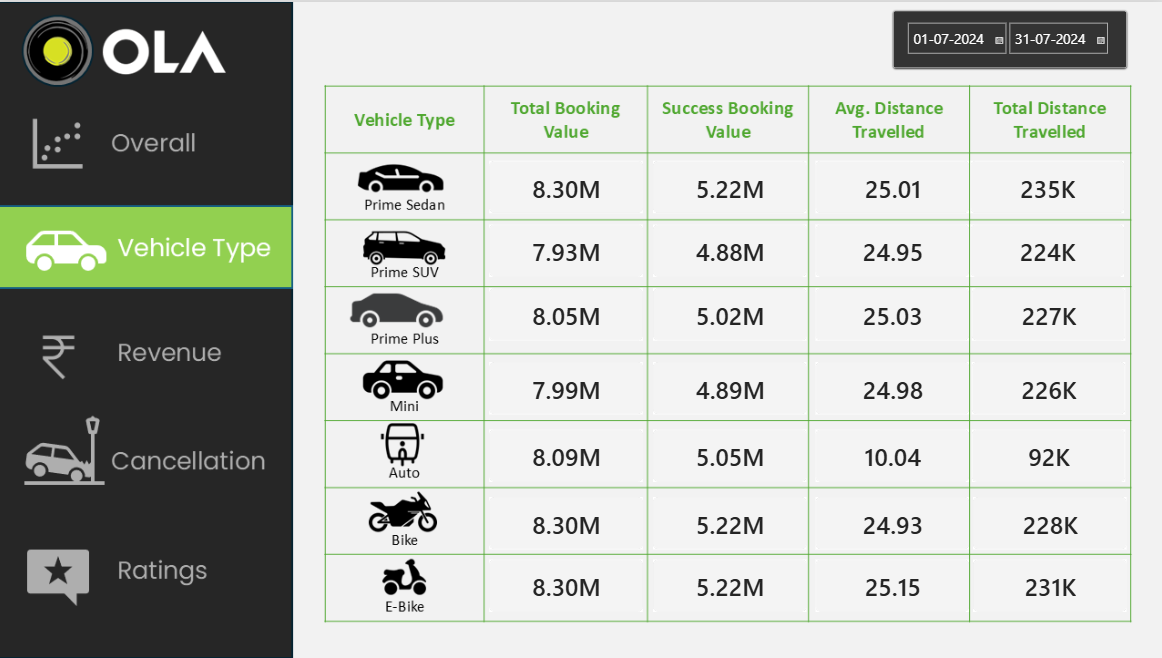

Layout of this report page (visuals, bound fields, positions):
{"tool":"powerbi","page":{"name":"Vehicle Type","canvas":[1920,1080],"ordinal":1},"visuals":[{"type":"actionButton","box":[0,335,484.1,135.7],"z":0},{"type":"actionButton","box":[1.7,510.9,484.1,135.7],"z":1000},{"type":"actionButton","box":[1.7,678.4,484.1,135.7],"z":2000},{"type":"actionButton","box":[0,869.3,484.1,135.7],"z":3000},{"type":"actionButton","box":[1.7,169.2,484.1,135.7],"z":4000},{"type":"cardVisual","fields":{"Data":["Sum(July.Booking_Value)"]},"box":[808.9,366.4,253.2,86.4],"z":4002},{"type":"cardVisual","fields":{"Data":["Sum(July.Booking_Value)"]},"box":[808.9,471.4,253.2,86.4],"z":4003},{"type":"cardVisual","fields":{"Data":["Sum(July.Booking_Value)"]},"box":[808.9,592.8,253.2,86.4],"z":4004},{"type":"cardVisual","fields":{"Data":["Sum(July.Booking_Value)"]},"box":[808.9,703.9,253.2,86.4],"z":4005},{"type":"cardVisual","fields":{"Data":["Sum(July.Booking_Value)"]},"box":[808.9,815.1,253.2,86.4],"z":4006},{"type":"cardVisual","fields":{"Data":["Sum(July.Booking_Value)"]},"box":[808.9,918,253.2,86.4],"z":4007},{"type":"cardVisual","fields":{"Data":["Sum(July.Booking_Value)"]},"box":[808.9,261.4,253.2,86.4],"z":4008},{"type":"cardVisual","fields":{"Data":["Sum(July.Booking_Value)"]},"box":[1078.6,261.4,253.2,86.4],"z":4009},{"type":"cardVisual","fields":{"Data":["Sum(July.Booking_Value)"]},"box":[1078.6,366.4,253.2,86.4],"z":4010},{"type":"cardVisual","fields":{"Data":["Sum(July.Booking_Value)"]},"box":[1078.6,471.4,253.2,86.4],"z":4011},{"type":"cardVisual","fields":{"Data":["Sum(July.Booking_Value)"]},"box":[1078.6,592.8,253.2,86.4],"z":4012},{"type":"cardVisual","fields":{"Data":["Sum(July.Booking_Value)"]},"box":[1078.6,703.9,253.2,86.4],"z":4013},{"type":"cardVisual","fields":{"Data":["Sum(July.Booking_Value)"]},"box":[1078.6,815.1,253.2,86.4],"z":4014},{"type":"cardVisual","fields":{"Data":["Sum(July.Booking_Value)"]},"box":[1078.6,918,253.2,86.4],"z":4015},{"type":"cardVisual","fields":{"Data":["Avg(July.Ride_Distance)"]},"box":[1346.1,261.4,253.2,86.4],"z":4016},{"type":"cardVisual","fields":{"Data":["Avg(July.Ride_Distance)"]},"box":[1346.1,366.4,253.2,86.4],"z":4017},{"type":"cardVisual","fields":{"Data":["Avg(July.Ride_Distance)"]},"box":[1346.1,471.4,253.2,86.4],"z":4018},{"type":"cardVisual","fields":{"Data":["Avg(July.Ride_Distance)"]},"box":[1346.1,592.8,253.2,86.4],"z":4019},{"type":"cardVisual","fields":{"Data":["Avg(July.Ride_Distance)"]},"box":[1346.1,703.9,253.2,86.4],"z":4020},{"type":"cardVisual","fields":{"Data":["Avg(July.Ride_Distance)"]},"box":[1346.1,815.1,253.2,86.4],"z":4021},{"type":"cardVisual","fields":{"Data":["Avg(July.Ride_Distance)"]},"box":[1346.1,918,253.2,86.4],"z":4022},{"type":"cardVisual","fields":{"Data":["Sum(July.Ride_Distance)"]},"box":[1601.4,261.4,253.2,86.4],"z":4023},{"type":"cardVisual","fields":{"Data":["Sum(July.Ride_Distance)"]},"box":[1601.4,366.4,253.2,86.4],"z":4024},{"type":"cardVisual","fields":{"Data":["Sum(July.Ride_Distance)"]},"box":[1603.4,471.4,253.2,86.4],"z":4025},{"type":"cardVisual","fields":{"Data":["Sum(July.Ride_Distance)"]},"box":[1603.4,592.8,253.2,86.4],"z":4026},{"type":"cardVisual","fields":{"Data":["Sum(July.Ride_Distance)"]},"box":[1603.4,703.9,253.2,86.4],"z":4027},{"type":"cardVisual","fields":{"Data":["Sum(July.Ride_Distance)"]},"box":[1605.5,815.1,253.2,86.4],"z":4028},{"type":"cardVisual","fields":{"Data":["Sum(July.Ride_Distance)"]},"box":[1605.5,918,253.2,86.4],"z":4029},{"type":"slicer","title":"Date","fields":{"Values":["July.Date"]},"box":[1473.8,14.4,384.9,94.7],"z":4030}]}

Visuals, with their boxes on the page's 1920x1080 design canvas (x1, y1, x2, y2). These are canvas units, not pixel positions in the 1162x658 screenshot, which may show the page scaled, cropped or inside an application window:
actionButton: {"left": 0, "top": 335, "right": 484, "bottom": 471}
actionButton: {"left": 2, "top": 511, "right": 486, "bottom": 647}
actionButton: {"left": 2, "top": 678, "right": 486, "bottom": 814}
actionButton: {"left": 0, "top": 869, "right": 484, "bottom": 1005}
actionButton: {"left": 2, "top": 169, "right": 486, "bottom": 305}
cardVisual - Sum(July.Booking_Value): {"left": 809, "top": 366, "right": 1062, "bottom": 453}
cardVisual - Sum(July.Booking_Value): {"left": 809, "top": 471, "right": 1062, "bottom": 558}
cardVisual - Sum(July.Booking_Value): {"left": 809, "top": 593, "right": 1062, "bottom": 679}
cardVisual - Sum(July.Booking_Value): {"left": 809, "top": 704, "right": 1062, "bottom": 790}
cardVisual - Sum(July.Booking_Value): {"left": 809, "top": 815, "right": 1062, "bottom": 902}
cardVisual - Sum(July.Booking_Value): {"left": 809, "top": 918, "right": 1062, "bottom": 1004}
cardVisual - Sum(July.Booking_Value): {"left": 809, "top": 261, "right": 1062, "bottom": 348}
cardVisual - Sum(July.Booking_Value): {"left": 1079, "top": 261, "right": 1332, "bottom": 348}
cardVisual - Sum(July.Booking_Value): {"left": 1079, "top": 366, "right": 1332, "bottom": 453}
cardVisual - Sum(July.Booking_Value): {"left": 1079, "top": 471, "right": 1332, "bottom": 558}
cardVisual - Sum(July.Booking_Value): {"left": 1079, "top": 593, "right": 1332, "bottom": 679}
cardVisual - Sum(July.Booking_Value): {"left": 1079, "top": 704, "right": 1332, "bottom": 790}
cardVisual - Sum(July.Booking_Value): {"left": 1079, "top": 815, "right": 1332, "bottom": 902}
cardVisual - Sum(July.Booking_Value): {"left": 1079, "top": 918, "right": 1332, "bottom": 1004}
cardVisual - Avg(July.Ride_Distance): {"left": 1346, "top": 261, "right": 1599, "bottom": 348}
cardVisual - Avg(July.Ride_Distance): {"left": 1346, "top": 366, "right": 1599, "bottom": 453}
cardVisual - Avg(July.Ride_Distance): {"left": 1346, "top": 471, "right": 1599, "bottom": 558}
cardVisual - Avg(July.Ride_Distance): {"left": 1346, "top": 593, "right": 1599, "bottom": 679}
cardVisual - Avg(July.Ride_Distance): {"left": 1346, "top": 704, "right": 1599, "bottom": 790}
cardVisual - Avg(July.Ride_Distance): {"left": 1346, "top": 815, "right": 1599, "bottom": 902}
cardVisual - Avg(July.Ride_Distance): {"left": 1346, "top": 918, "right": 1599, "bottom": 1004}
cardVisual - Sum(July.Ride_Distance): {"left": 1601, "top": 261, "right": 1855, "bottom": 348}
cardVisual - Sum(July.Ride_Distance): {"left": 1601, "top": 366, "right": 1855, "bottom": 453}
cardVisual - Sum(July.Ride_Distance): {"left": 1603, "top": 471, "right": 1857, "bottom": 558}
cardVisual - Sum(July.Ride_Distance): {"left": 1603, "top": 593, "right": 1857, "bottom": 679}
cardVisual - Sum(July.Ride_Distance): {"left": 1603, "top": 704, "right": 1857, "bottom": 790}
cardVisual - Sum(July.Ride_Distance): {"left": 1606, "top": 815, "right": 1859, "bottom": 902}
cardVisual - Sum(July.Ride_Distance): {"left": 1606, "top": 918, "right": 1859, "bottom": 1004}
"Date" slicer: {"left": 1474, "top": 14, "right": 1859, "bottom": 109}
